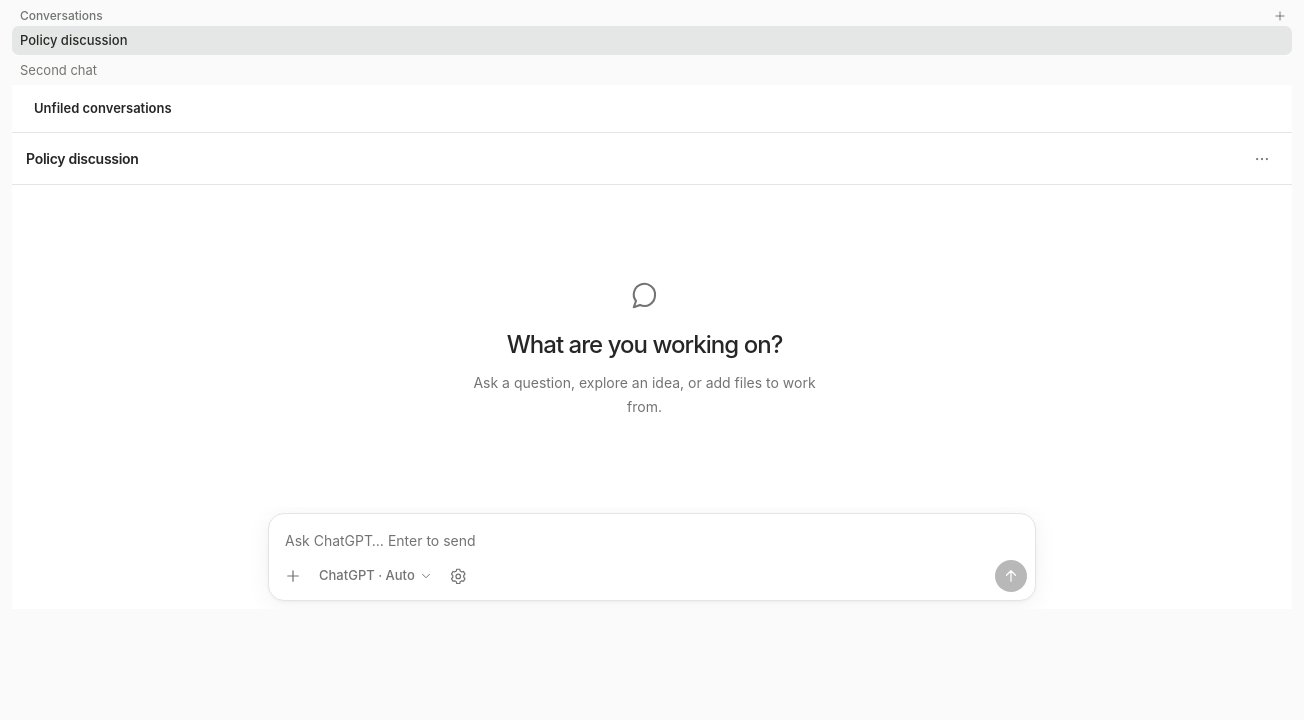
Test: puts the cursor in the composer when a conversation opens
The image size is (1304, 720).
Expected: the heading "Policy discussion" is shown, left=26, top=150, right=139, bottom=166
What coordinates should you click on to do the following:
click the button "Second chat"
I would click on:
 (59, 70)
Its box is left=12, top=56, right=1292, bottom=85.
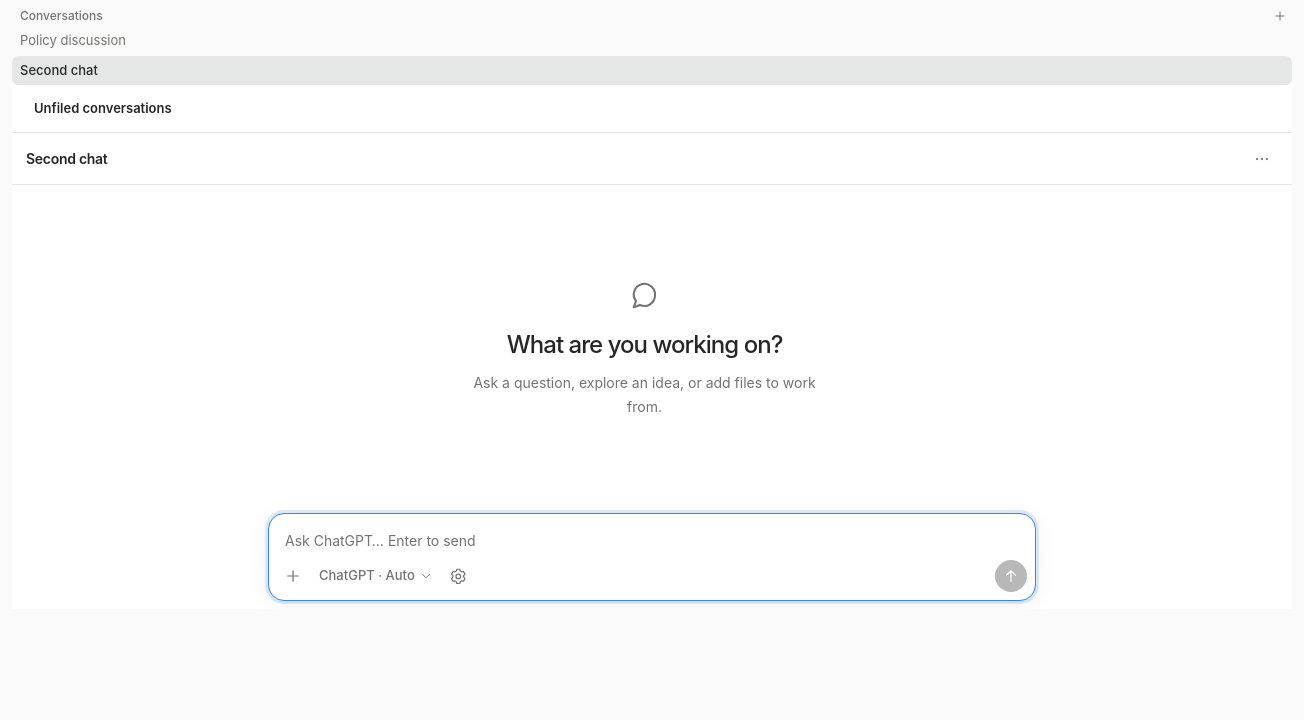
Expected: the heading "Second chat" is shown, left=26, top=150, right=108, bottom=166
